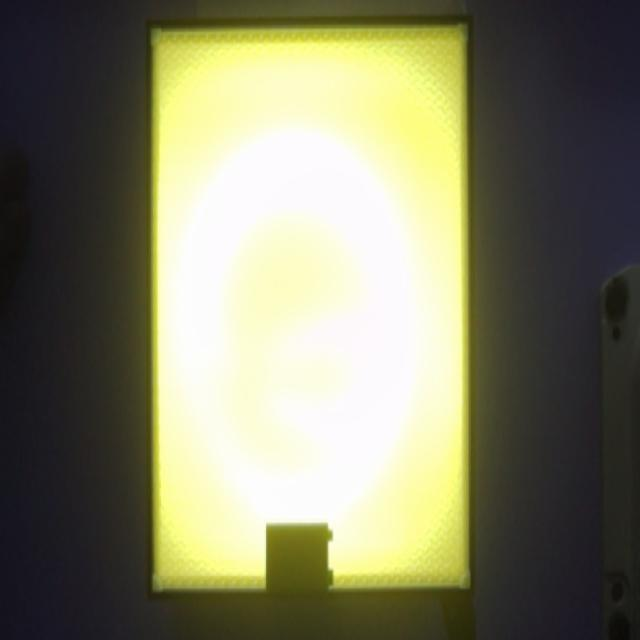bateria: (265, 523, 333, 594)
mesa: (147, 17, 474, 601)
